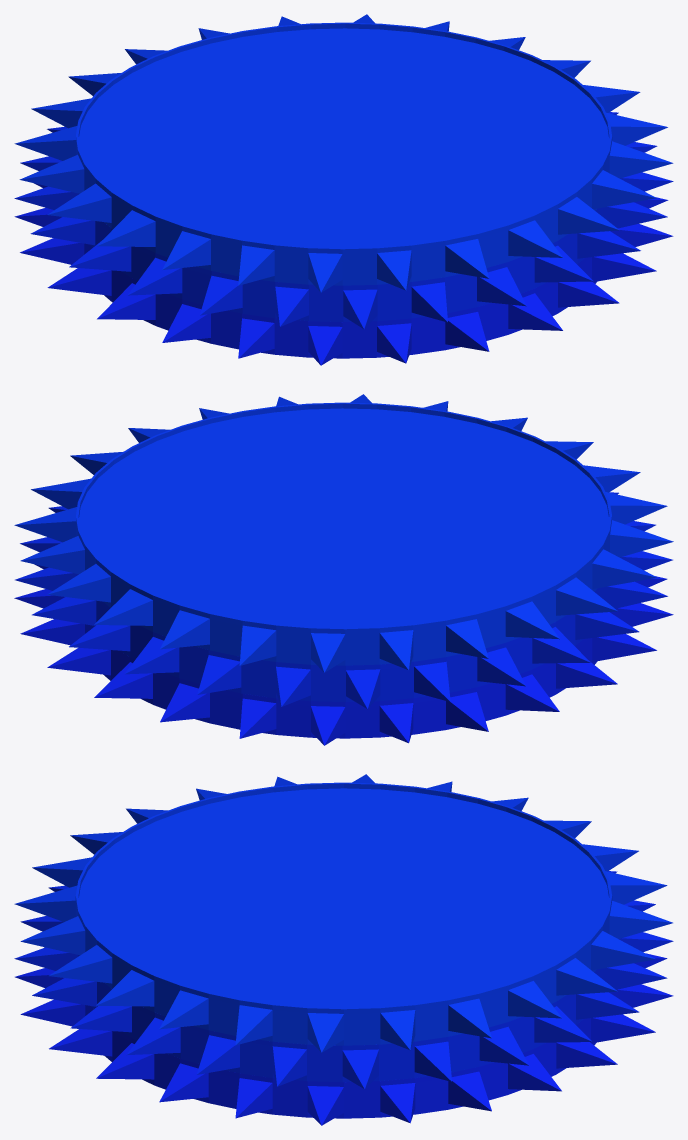
The model's file is gizagiza.fbx.
3 renders of one model, top to bottom at view 1: azimuth 30°, elevation 25°; view 2: azimuth 150°, elevation 25°; view 3: azimuth 270°, elevation 25°, orthographic.
Visible parts, largest first — view 1: ベジエ円.002; view 2: ベジエ円.002; view 3: ベジエ円.002.
Part boxes in pixels (left/top/right/bottom): ベジエ円.002: left=14, top=14, right=673, bottom=365; ベジエ円.002: left=14, top=394, right=673, bottom=745; ベジエ円.002: left=14, top=774, right=673, bottom=1125.
Size of the model in its own units: 244 by 44.58 by 244.
